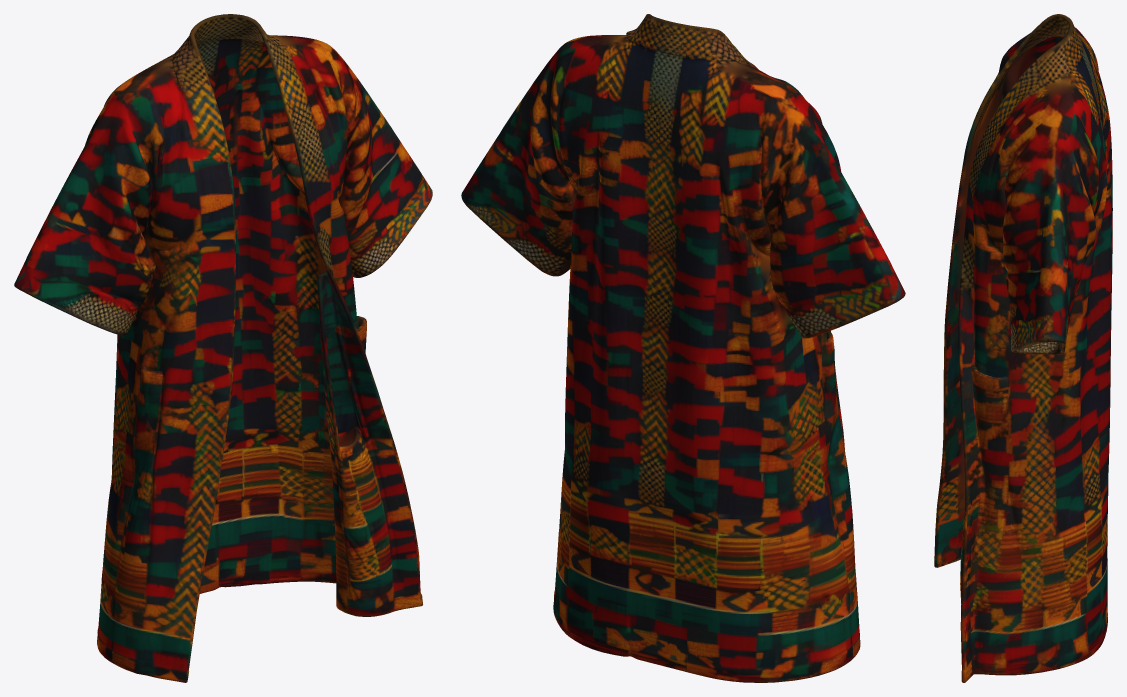
The model's file is dress-03.glb.
The picture shows the model from 3 angles, left to right: view 1: azimuth 30°, elevation 25°; view 2: azimuth 150°, elevation 25°; view 3: azimuth 270°, elevation 25°; orthographic projection. The views are drawn at different scales.
Visible parts, largest first — view 1: material; view 2: material; view 3: material.
Part boxes in pixels (x1,y1,x2,y2): material: (14,14,432,682); material: (461,14,905,682); material: (934,14,1112,682).
Bounding box in the file's own units: 0.7734 × 1.06 × 0.2902.
1 material, 1 textured.
